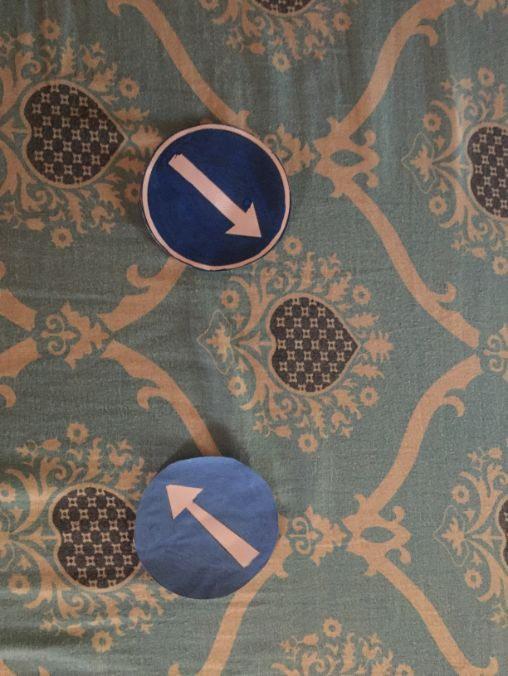go-stright: (139, 123, 287, 271)
keep-left: (131, 457, 274, 600)
